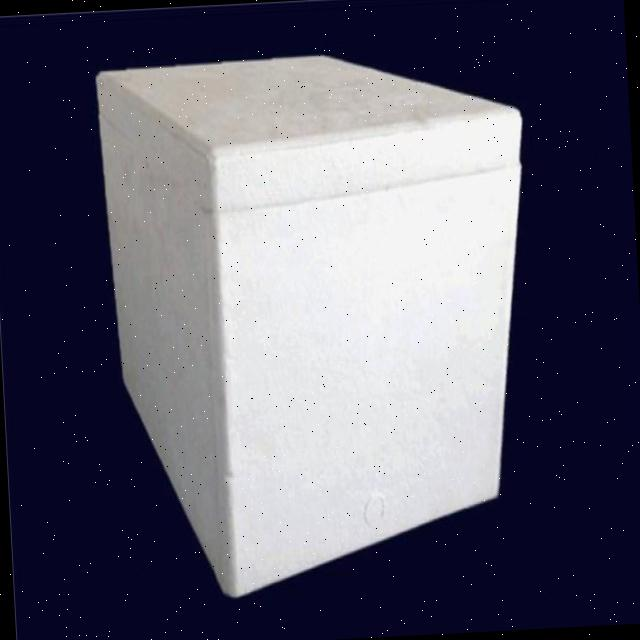styrofoam: (93, 42, 547, 606)
